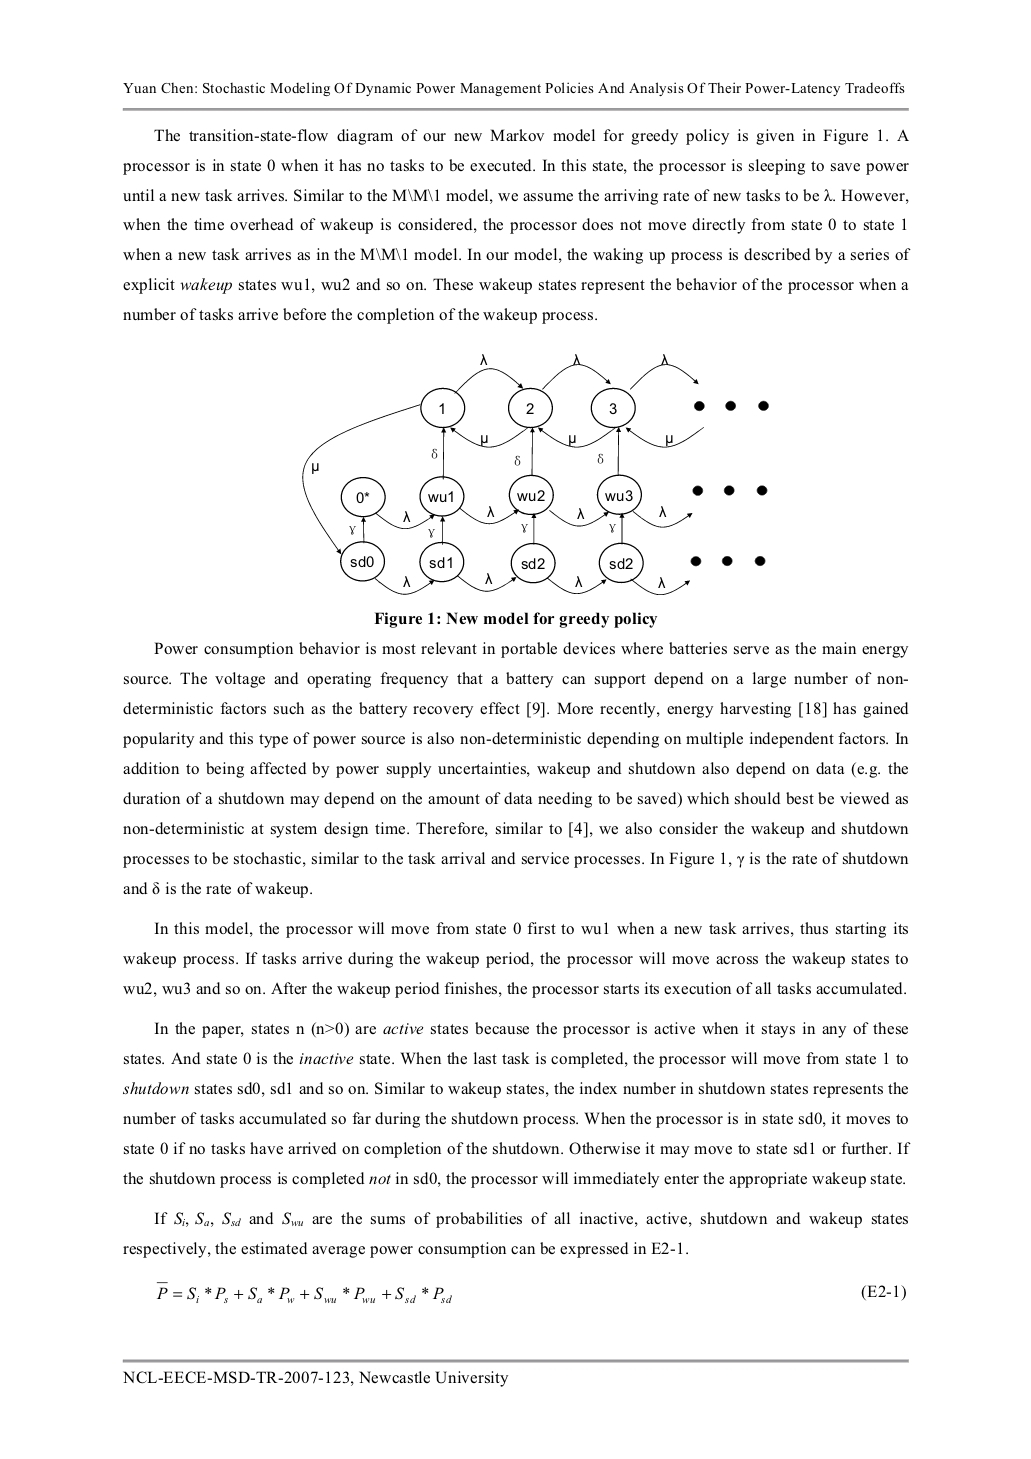figure: (302, 352, 768, 595), (122, 1357, 908, 1363), (122, 107, 908, 112)
formula: (156, 1284, 905, 1304)
